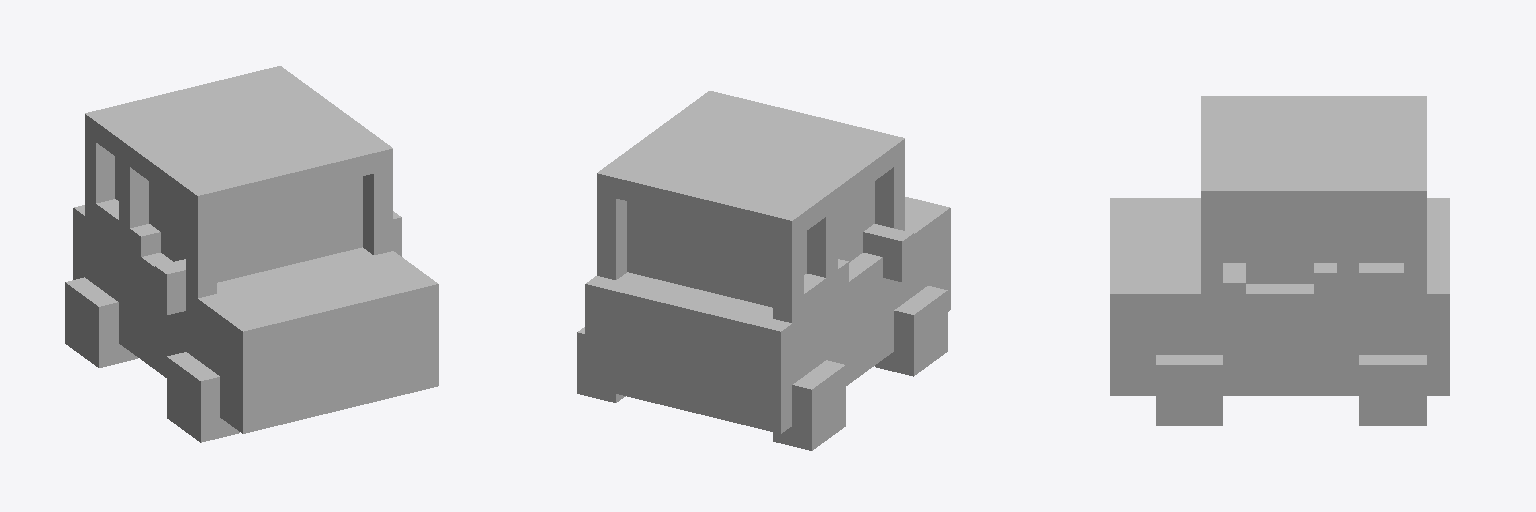
The model's file is Voxel Design (Cars)-11.obj.
The picture shows the model from 3 angles: view 1: azimuth 30°, elevation 25°; view 2: azimuth 150°, elevation 25°; view 3: azimuth 270°, elevation 25°; orthographic projection.
Parts seen in each view (by area): view 1: object 1; view 2: object 1; view 3: object 1.
Boxes of the visible parts, box(x1,y1,x2,y2) form: object 1: box(65, 66, 438, 442); object 1: box(577, 91, 950, 450); object 1: box(1110, 96, 1449, 425).
Size of the model in its own units: 1.2 by 1.1 by 1.5.